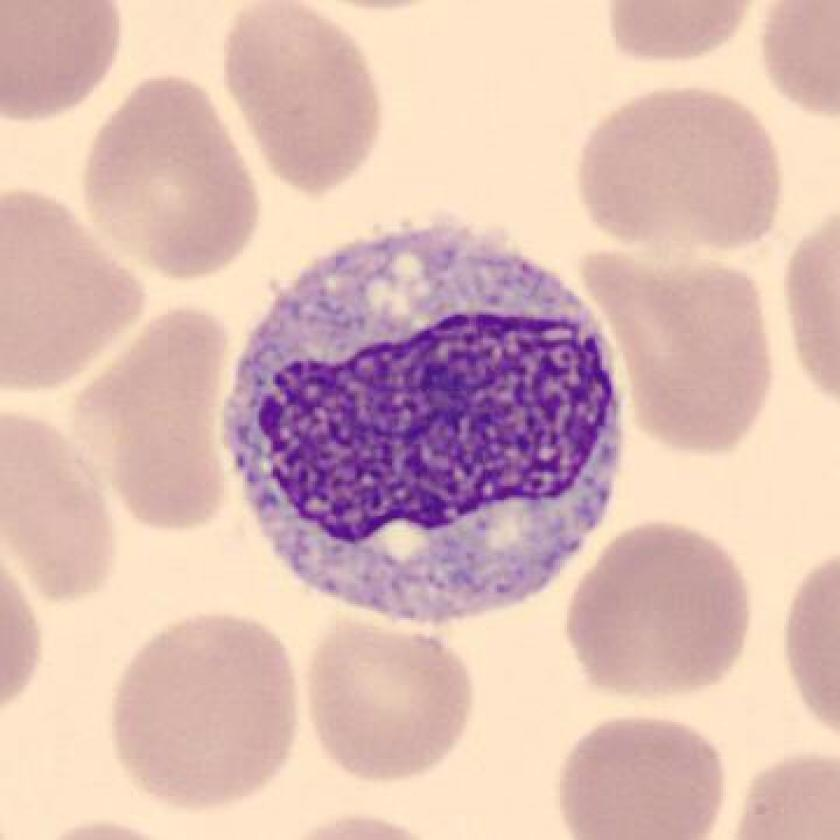monocyte: (207, 200, 648, 647)
